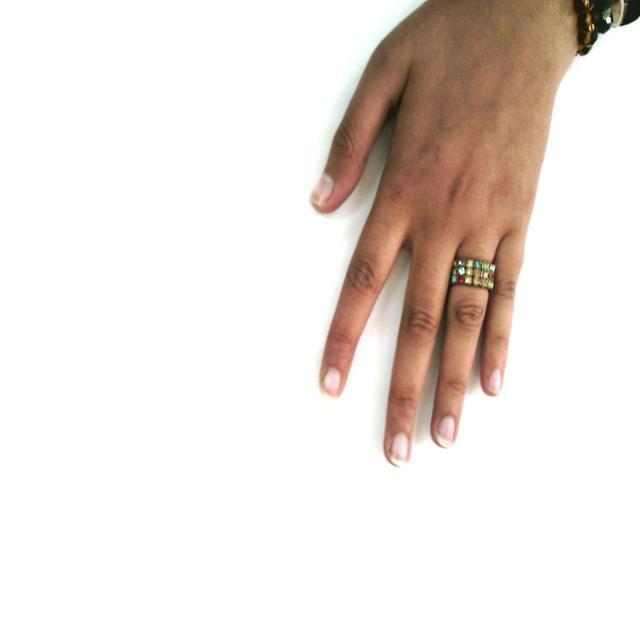Fingernail: (312, 176, 333, 203), (390, 433, 408, 463), (437, 417, 454, 444), (324, 369, 341, 394), (488, 371, 501, 392)
